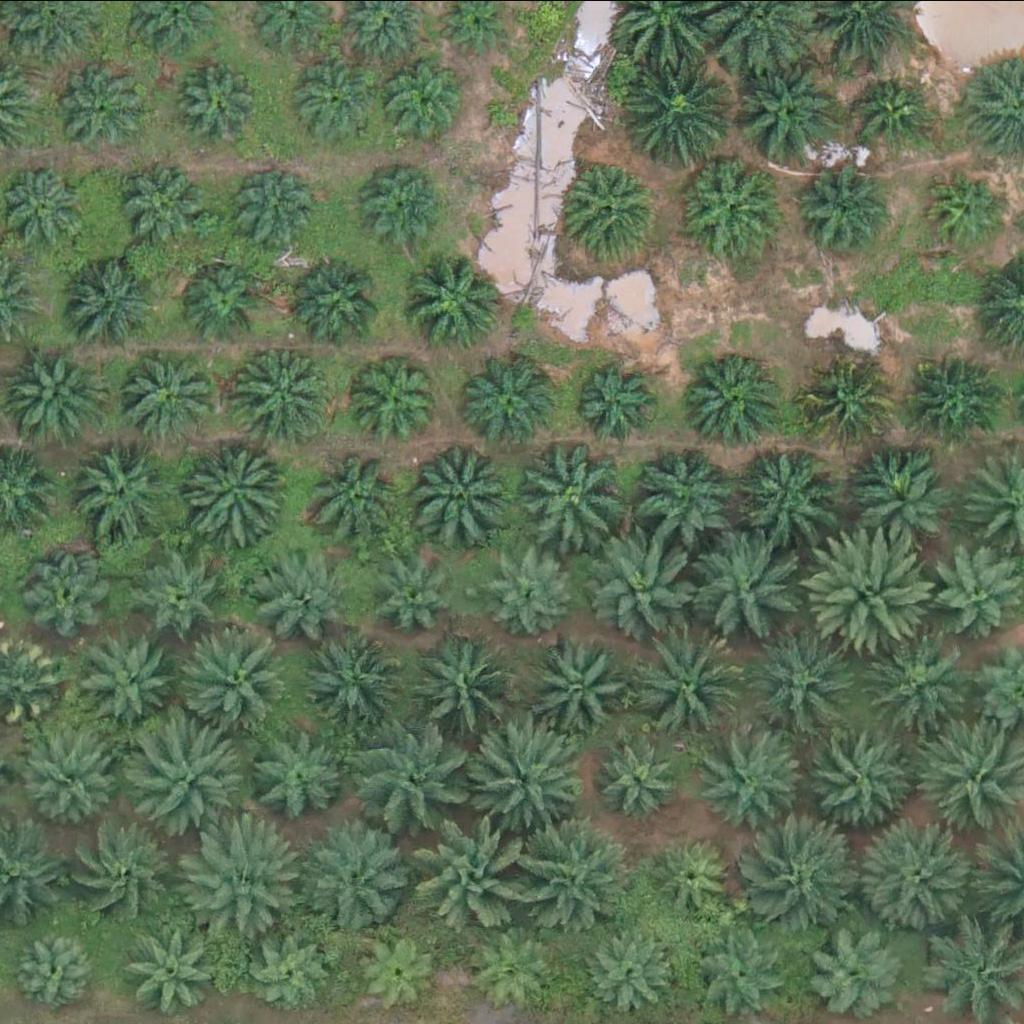Kelapa_Sawit: (807, 523, 933, 648), (685, 533, 799, 646), (414, 632, 528, 745), (633, 631, 746, 744), (745, 627, 858, 740), (800, 720, 913, 833), (861, 823, 974, 936), (627, 54, 740, 167), (516, 439, 629, 552), (360, 715, 473, 828), (518, 816, 631, 929), (591, 526, 704, 639), (401, 434, 515, 546), (137, 717, 251, 829), (422, 811, 536, 923), (701, 728, 814, 840), (752, 826, 865, 938), (183, 620, 296, 732), (465, 721, 578, 833), (296, 824, 409, 936), (181, 824, 294, 936), (68, 820, 181, 932), (736, 66, 837, 166), (678, 346, 779, 446), (737, 439, 838, 539), (866, 636, 967, 736), (60, 248, 161, 348), (292, 252, 393, 352), (408, 251, 509, 351), (236, 342, 337, 442), (76, 442, 177, 542), (192, 442, 293, 542), (530, 633, 631, 733), (81, 627, 182, 727), (242, 728, 343, 828), (126, 917, 227, 1017), (679, 155, 779, 255), (644, 444, 744, 544), (844, 454, 944, 554), (802, 921, 902, 1021), (564, 157, 664, 257), (3, 342, 103, 442), (464, 349, 564, 449), (308, 440, 408, 540), (252, 539, 352, 639), (308, 632, 408, 732), (24, 733, 124, 833), (12, 927, 101, 1015), (796, 170, 884, 258), (802, 359, 890, 447), (651, 833, 739, 921), (123, 161, 211, 249), (225, 168, 313, 256), (173, 66, 261, 154), (358, 352, 446, 440), (571, 360, 659, 448), (596, 733, 684, 821), (352, 930, 440, 1018), (475, 925, 563, 1013), (701, 934, 790, 1021), (910, 357, 998, 444), (934, 549, 1022, 636), (360, 162, 448, 249), (377, 52, 465, 139), (292, 56, 380, 143), (56, 65, 144, 152), (178, 257, 266, 344), (122, 348, 210, 435), (24, 545, 112, 632), (141, 548, 229, 635), (385, 548, 473, 635), (490, 543, 578, 630), (250, 928, 338, 1015), (584, 927, 672, 1014), (927, 171, 1003, 246), (853, 76, 928, 151)
